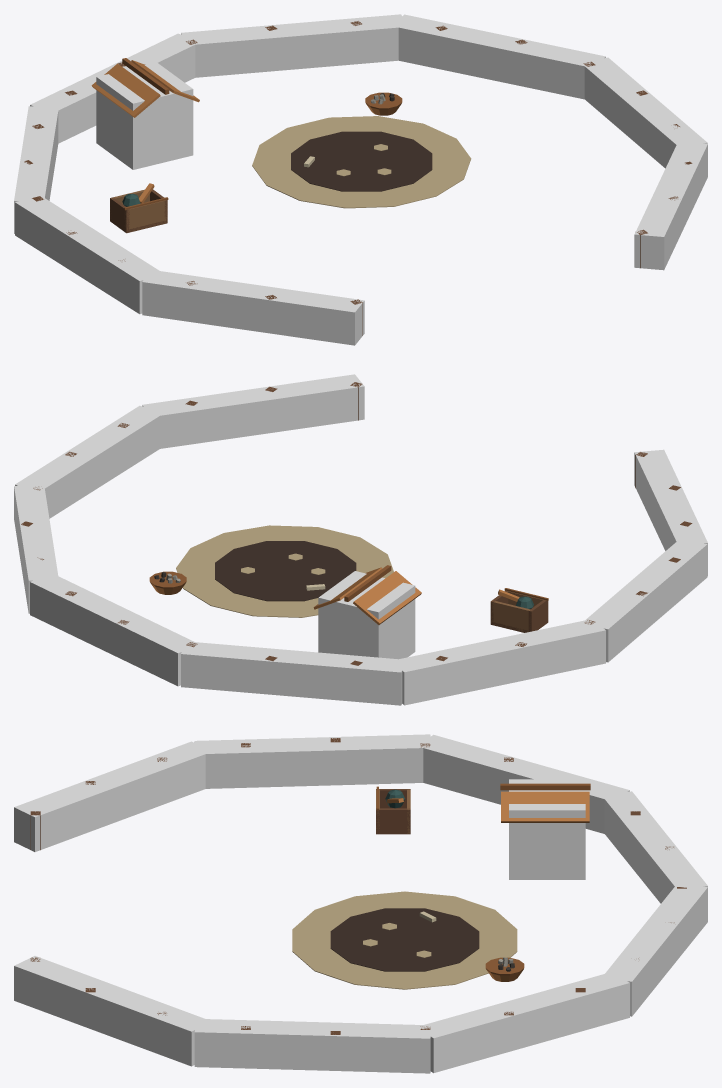
Rendered from camp_pet_pen.glb.
3 views of the same model, one above another, from view 1: azimuth 30°, elevation 25°; view 2: azimuth 150°, elevation 25°; view 3: azimuth 270°, elevation 25° (orthographic). The views are drawn at different scales.
Visible parts, largest first — view 1: camp_pet_pen-col-col, Body; view 2: camp_pet_pen-col-col, Body; view 3: camp_pet_pen-col-col, Body.
Part boxes in pixels (bbox=[...]): camp_pet_pen-col-col: bbox=[14, 14, 707, 345]; Body: bbox=[24, 21, 692, 335]; camp_pet_pen-col-col: bbox=[14, 374, 707, 705]; Body: bbox=[21, 382, 692, 665]; camp_pet_pen-col-col: bbox=[14, 734, 707, 1073]; Body: bbox=[30, 738, 686, 1034].
Size of the model in its own units: 18.71 by 2.32 by 18.03.
